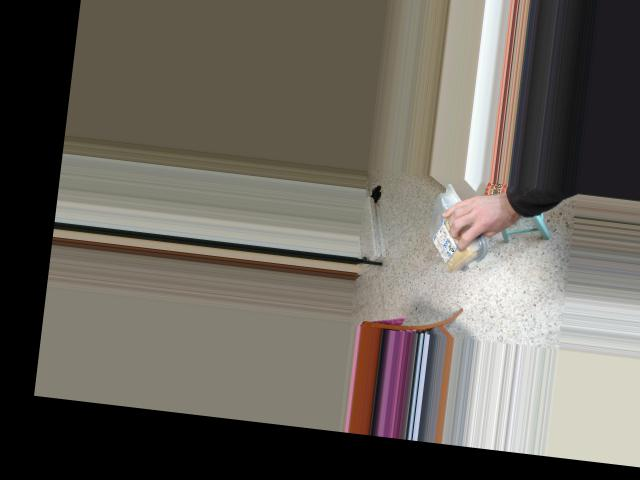cheese: (430, 187, 479, 283)
